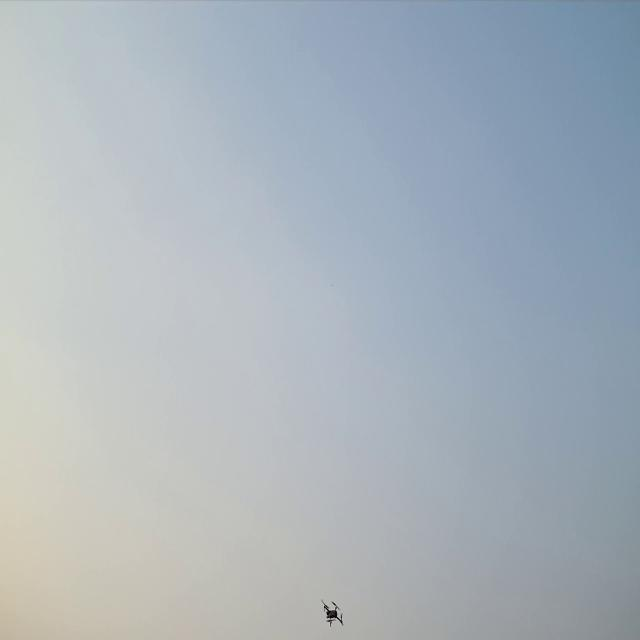UAV: (319, 598, 349, 630)
